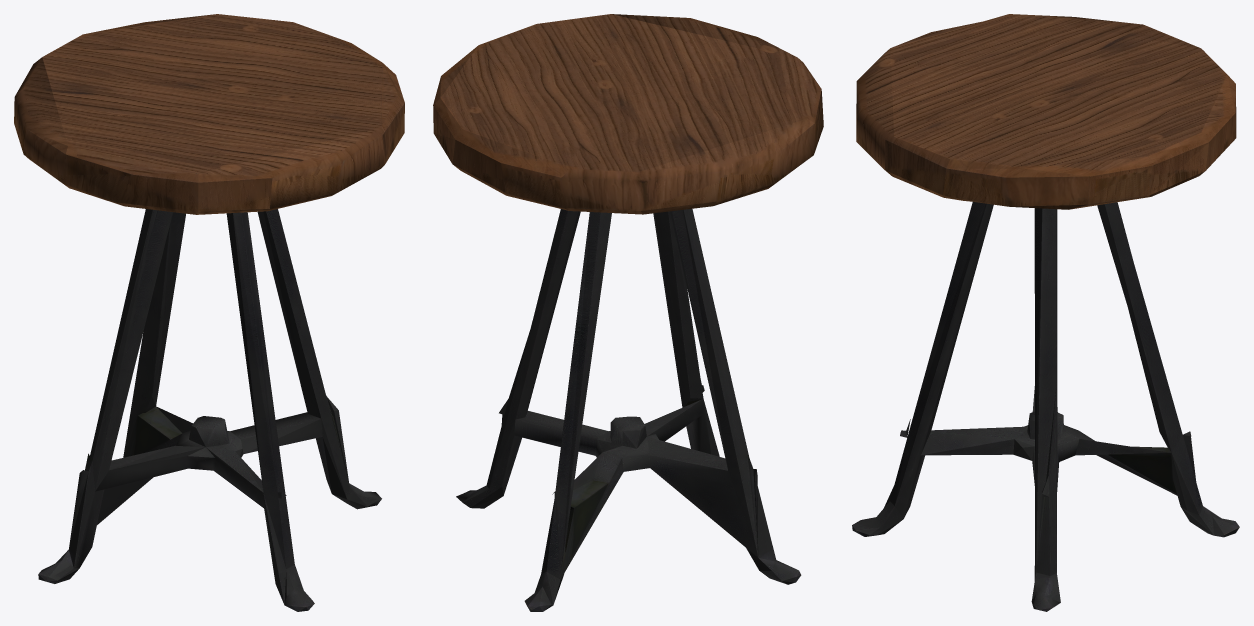
File: PR_RoundWorkStool.fbx
3 views of the same model, side by side, from view 1: azimuth 30°, elevation 25°; view 2: azimuth 150°, elevation 25°; view 3: azimuth 270°, elevation 25° (orthographic).
Visible parts, largest first — view 1: Mesh_0; view 2: Mesh_0; view 3: Mesh_0.
Boxes of the visible parts, box(x1,y1,x2,y2) form: Mesh_0: box(14, 14, 404, 611); Mesh_0: box(433, 14, 823, 611); Mesh_0: box(852, 14, 1239, 611).
Bounding box in the file's own units: 149 × 190 × 150.
Materials: 1 (1 with a texture image).
